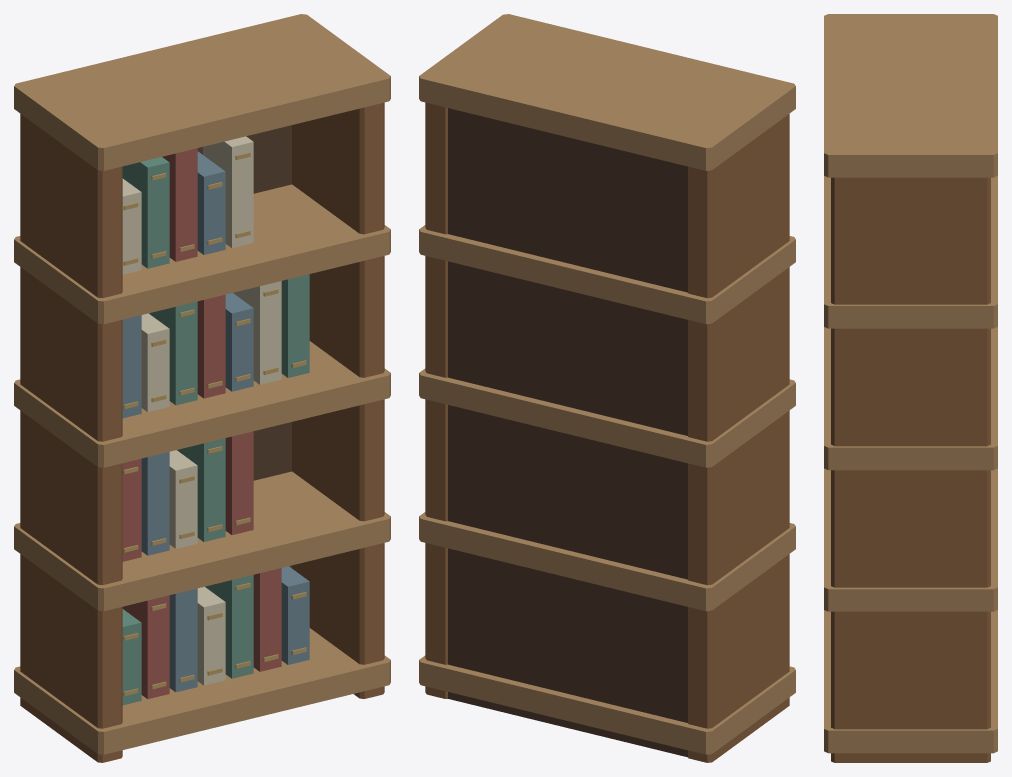
File: bookshelf.glb
3 renders of one model, left to right at view 1: azimuth 30°, elevation 25°; view 2: azimuth 150°, elevation 25°; view 3: azimuth 270°, elevation 25°, orthographic.
Parts seen in each view (by area): view 1: geometry; view 2: geometry; view 3: geometry.
Boxes of the visible parts, box(x1,y1,x2,y2) form: geometry: box(14, 14, 390, 762); geometry: box(419, 14, 795, 762); geometry: box(824, 14, 997, 762).
Size of the model in its own units: 0.94 by 1.89 by 0.49.
